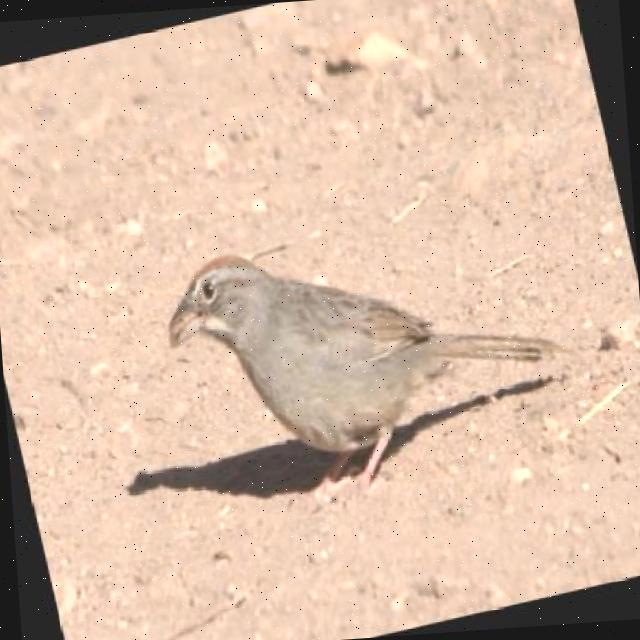sparrow: (151, 179, 592, 522)
